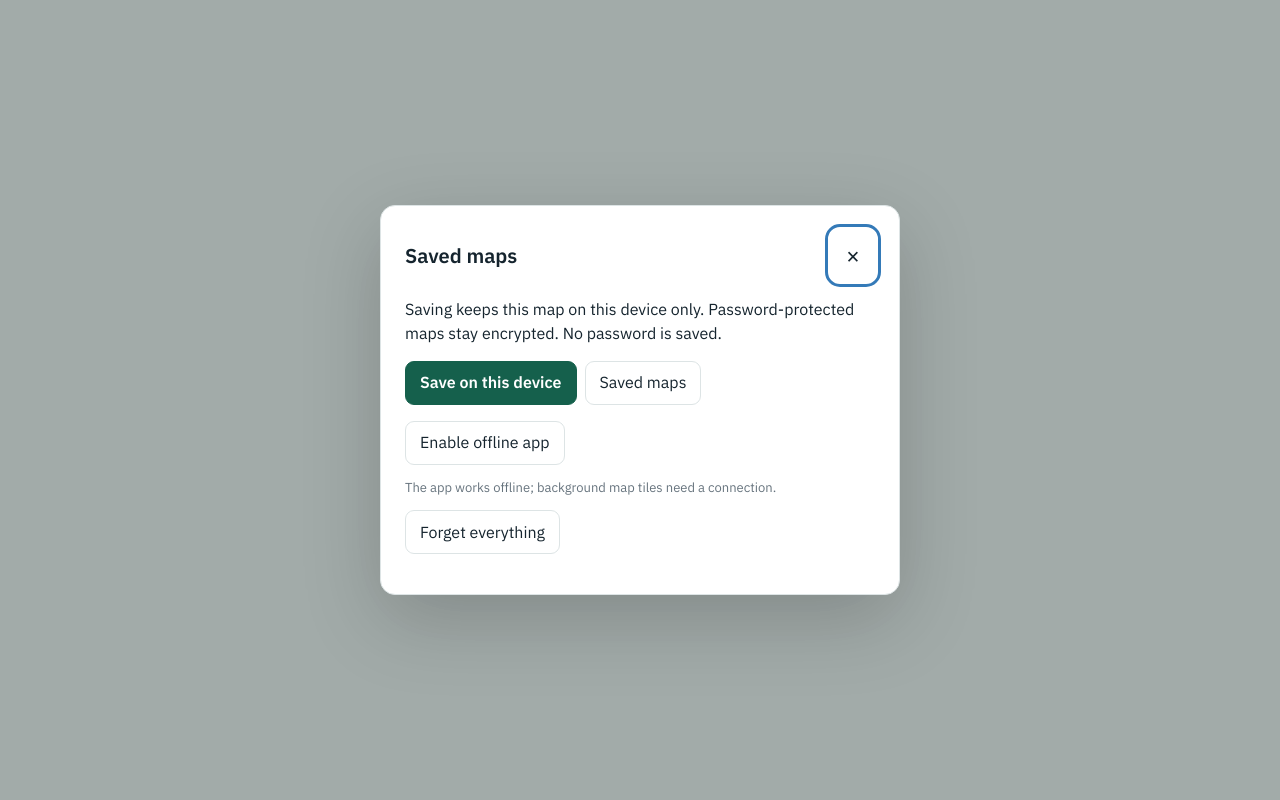
Scenario: does not write a changed snapshot and allows a retry after the error
Click the button "Save on this device". click: {"x": 491, "y": 383}
box: left=405, top=361, right=576, bottom=405
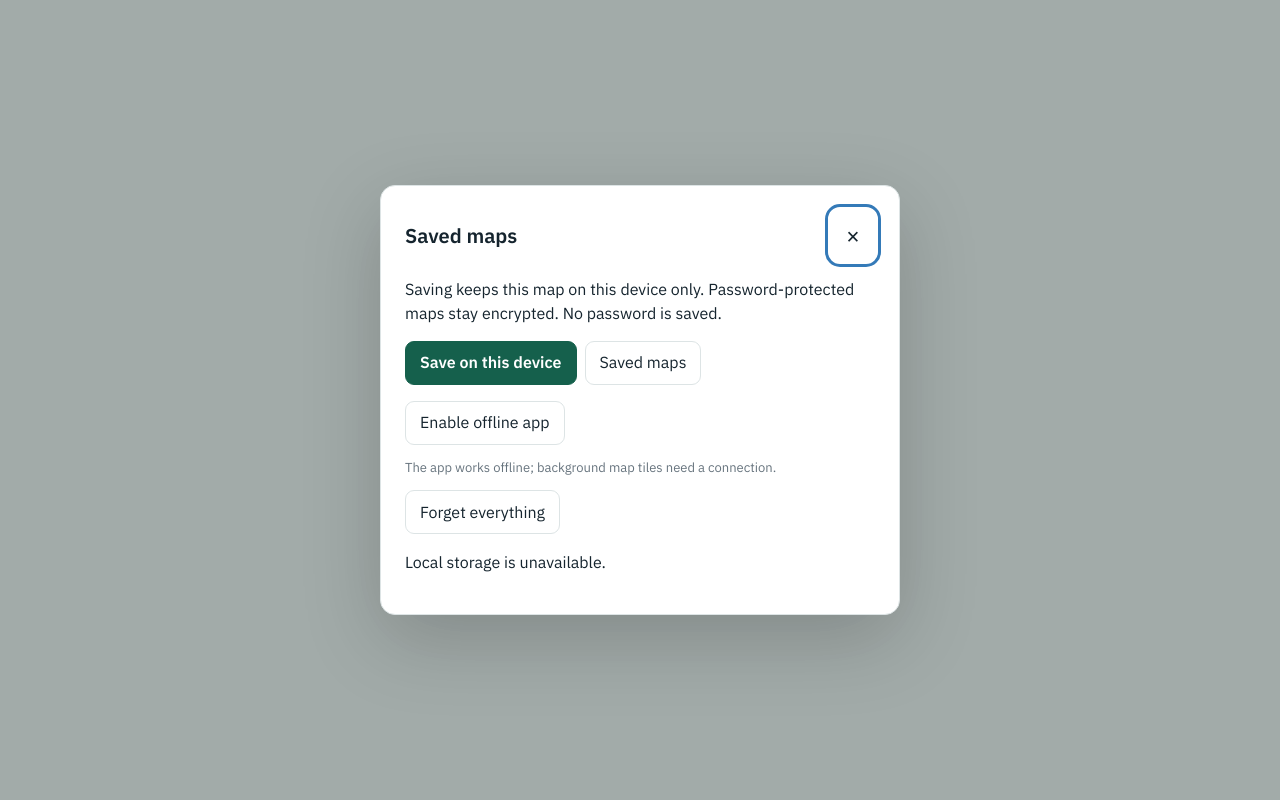
Now the text "Local storage is unavailable." is shown, box left=405, top=552, right=606, bottom=572
Click the button "Save on this device". click: {"x": 491, "y": 363}
box: left=405, top=341, right=576, bottom=385
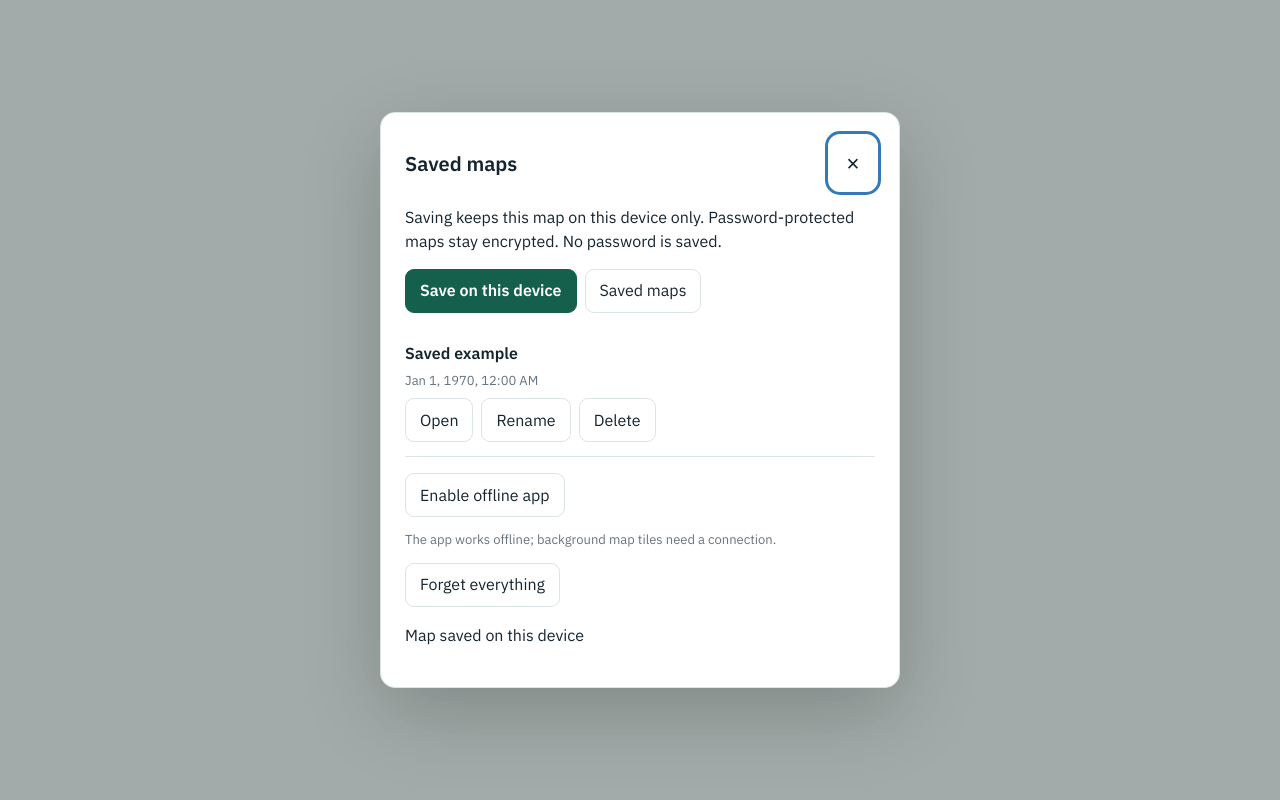
Now the text "Map saved on this device" is shown, box left=405, top=625, right=584, bottom=645
